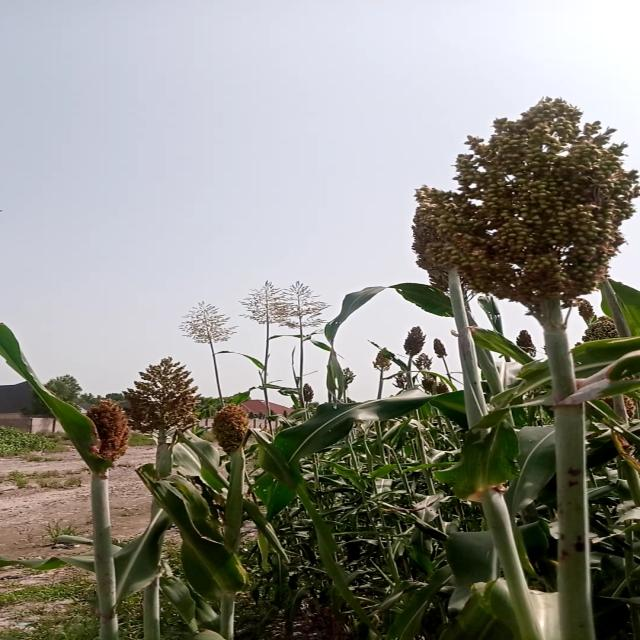UnripeSorghum: (391, 83, 640, 302)
